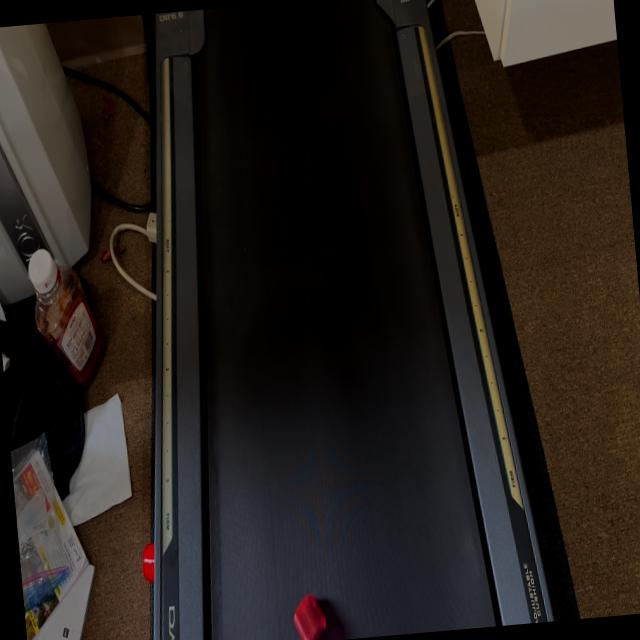Trash: (291, 592, 329, 640)
